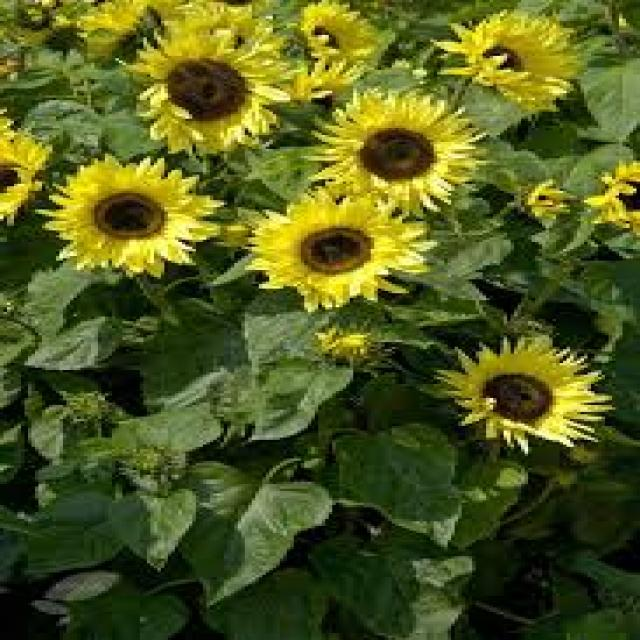sunflower: (297, 81, 498, 222), (116, 12, 302, 156), (242, 182, 441, 316), (29, 150, 230, 282), (430, 331, 622, 460), (425, 8, 595, 116), (271, 0, 390, 77), (171, 0, 291, 64), (67, 0, 189, 58), (0, 107, 56, 233), (272, 50, 369, 116), (579, 157, 640, 240), (22, 13, 108, 66), (308, 322, 386, 364), (522, 177, 576, 227), (173, 0, 274, 21)
